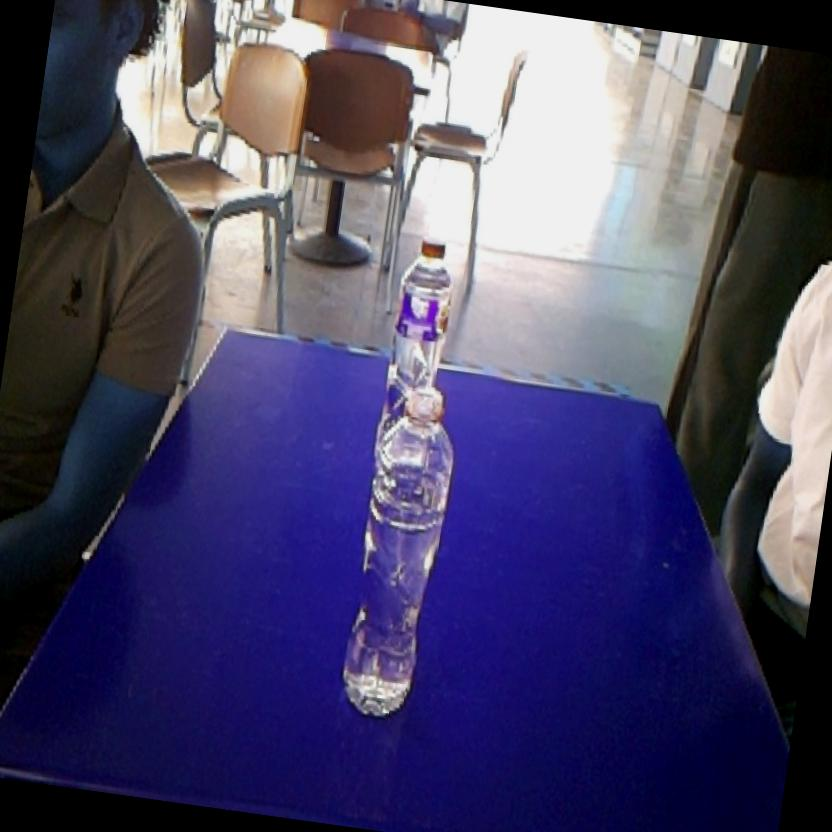good: (379, 226, 468, 383)
no_cap: (324, 376, 472, 738)
